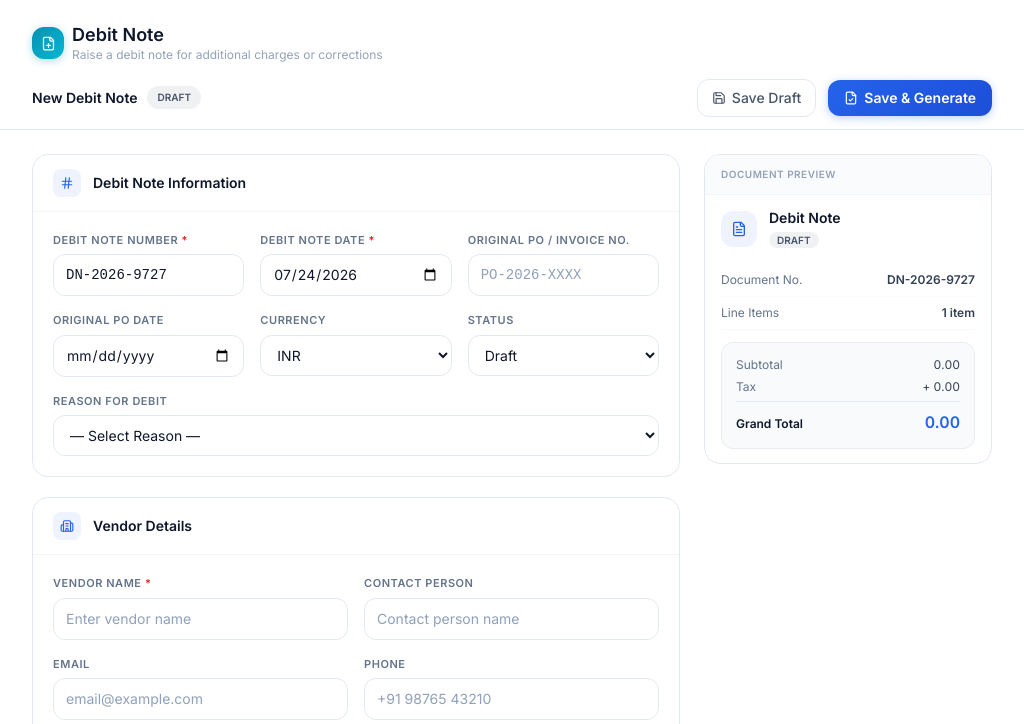
DebitNotePage › shows validation errors for required fields on submit
Clear the field named "dnNumber" at [149, 275], box left=53, top=254, right=244, bottom=296
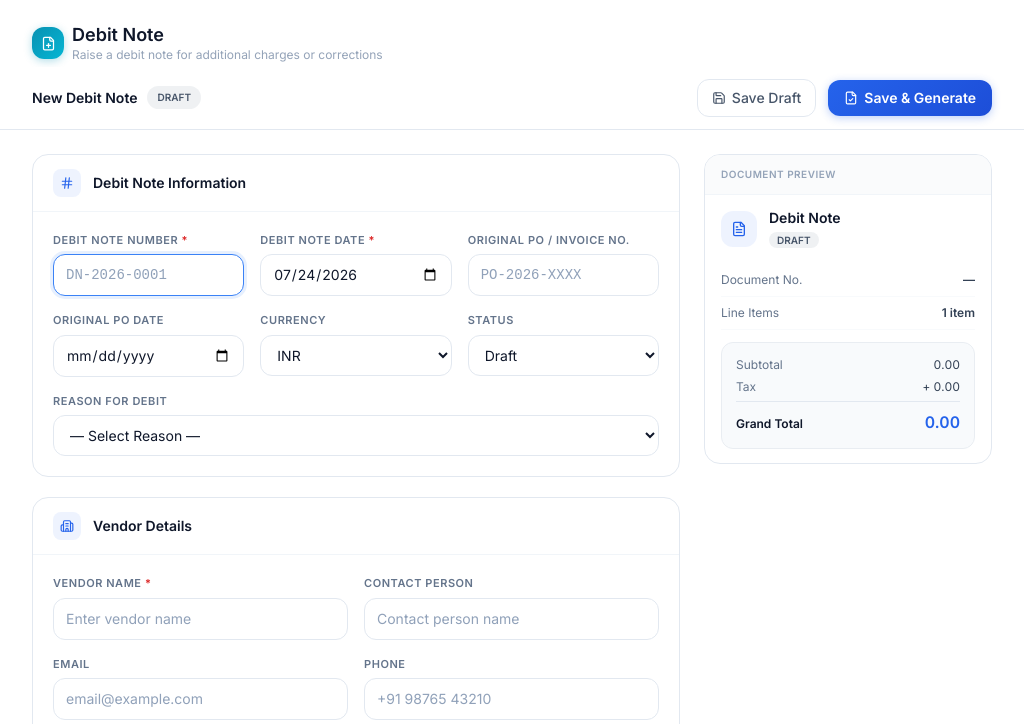
Click the button "Save & Generate" at [910, 98], box left=828, top=80, right=992, bottom=116
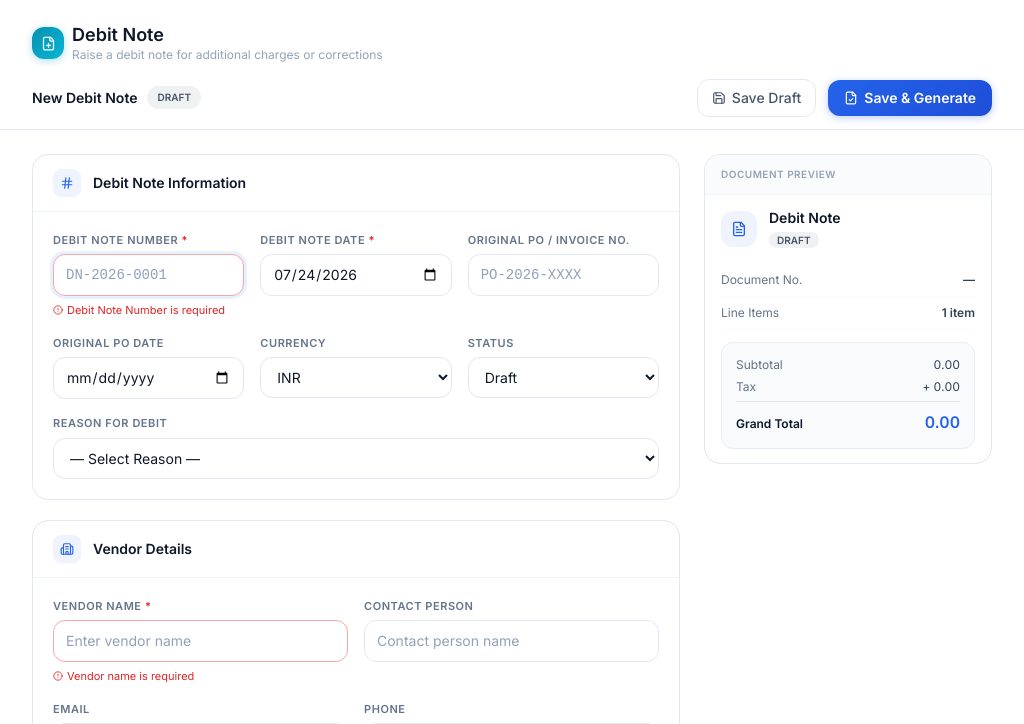
Check: the text "Debit Note Number is required" is shown, box left=53, top=302, right=244, bottom=318
Check: the text "Vendor name is required" is shown, box left=53, top=669, right=194, bottom=683
